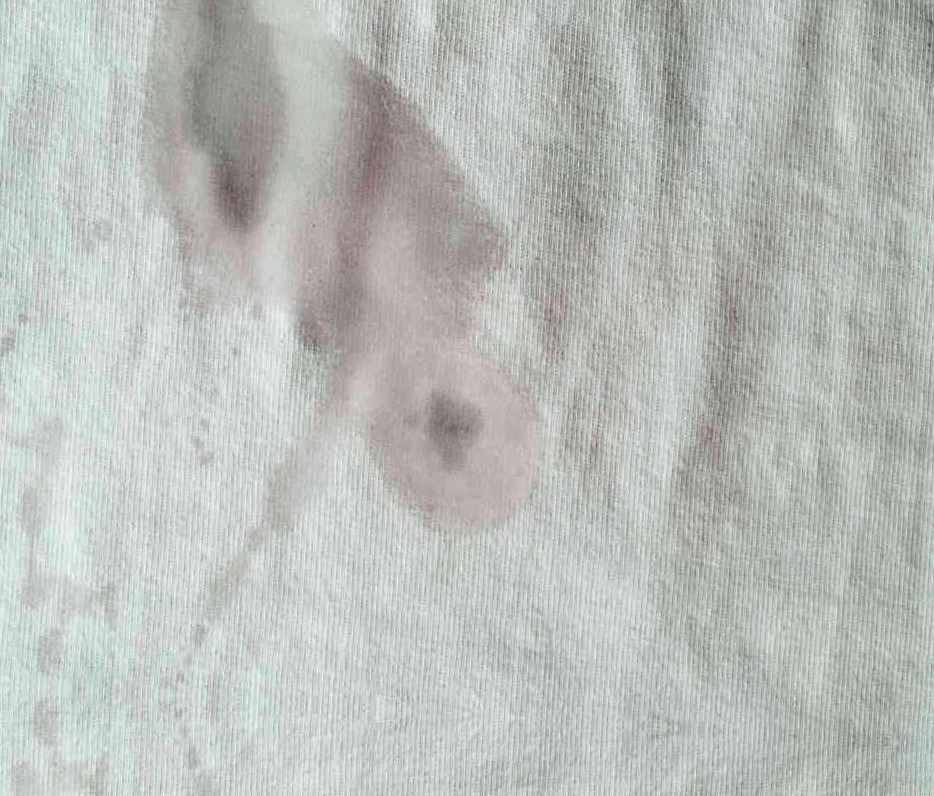stain: (133, 0, 615, 551)
